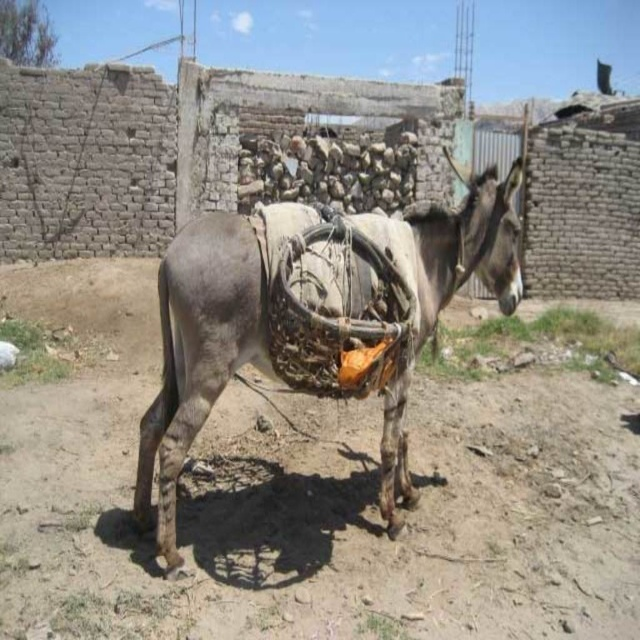Mule: (132, 144, 524, 583)
